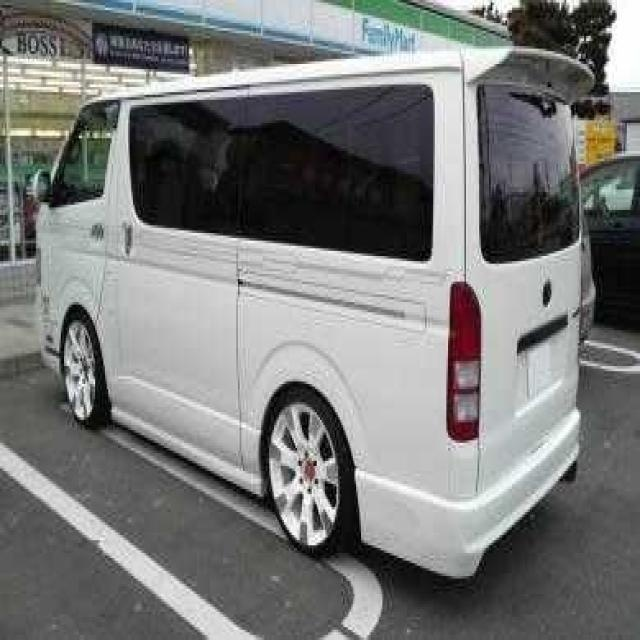Van: (39, 40, 594, 588)
